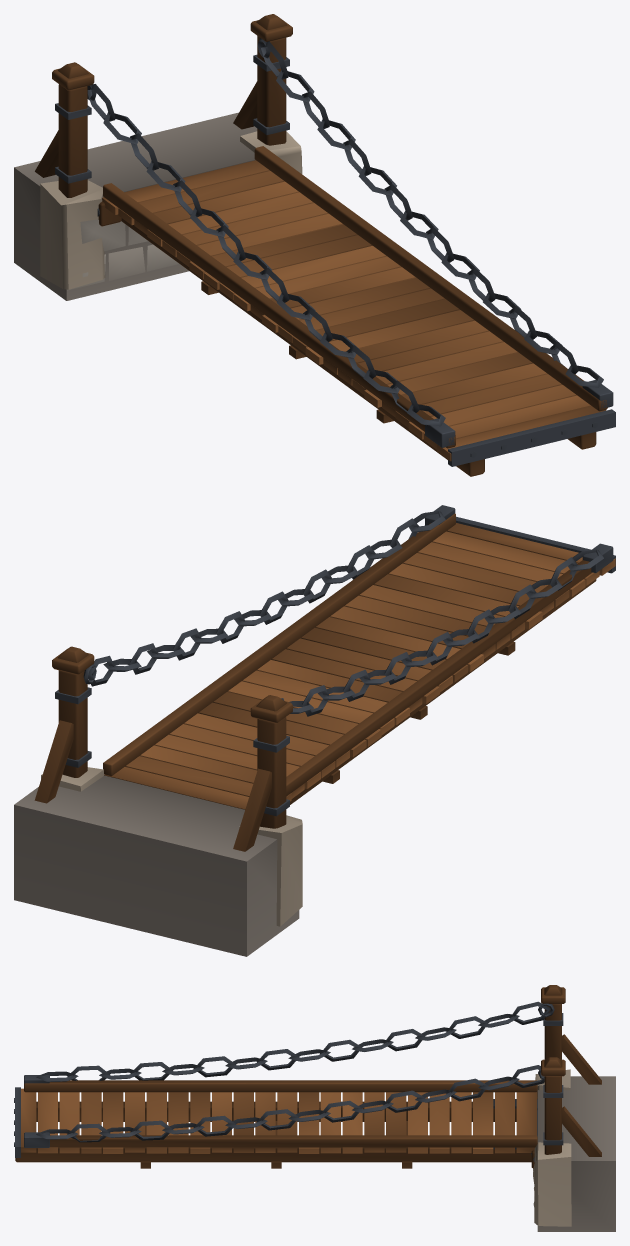
File: drawbridge.glb
The picture shows the model from 3 angles, top to bottom: view 1: azimuth 30°, elevation 25°; view 2: azimuth 150°, elevation 25°; view 3: azimuth 270°, elevation 25°; orthographic projection. The views are drawn at different scales.
Parts seen in each view (by area): view 1: Deck Wood, Drawbridge Plaster, Deck Iron, Drawbridge Wood, Drawbridge Iron; view 2: Deck Wood, Drawbridge Plaster, Deck Iron, Drawbridge Wood, Drawbridge Iron; view 3: Deck Wood, Deck Iron, Drawbridge Plaster, Drawbridge Wood, Drawbridge Iron.
Boxes of the visible parts, x1,y1,x2,y2 form: Deck Wood: [102, 146, 607, 476]; Drawbridge Plaster: [14, 112, 302, 300]; Deck Iron: [87, 41, 615, 466]; Drawbridge Wood: [35, 14, 292, 226]; Drawbridge Iron: [55, 38, 289, 216]; Deck Wood: [103, 513, 615, 809]; Drawbridge Plaster: [14, 767, 302, 956]; Deck Iron: [88, 505, 615, 716]; Drawbridge Wood: [34, 646, 292, 851]; Drawbridge Iron: [55, 664, 289, 816]; Deck Wood: [15, 1080, 537, 1168]; Deck Iron: [14, 1001, 550, 1157]; Drawbridge Plaster: [533, 1069, 615, 1231]; Drawbridge Wood: [531, 985, 601, 1168]; Drawbridge Iron: [533, 1003, 563, 1161].
Size of the model in its own units: 2.39 by 2.12 by 6.92.
